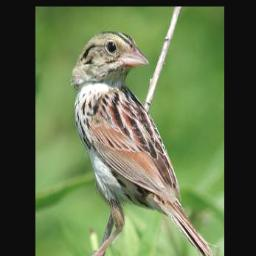Sparrow: (69, 30, 219, 256)
